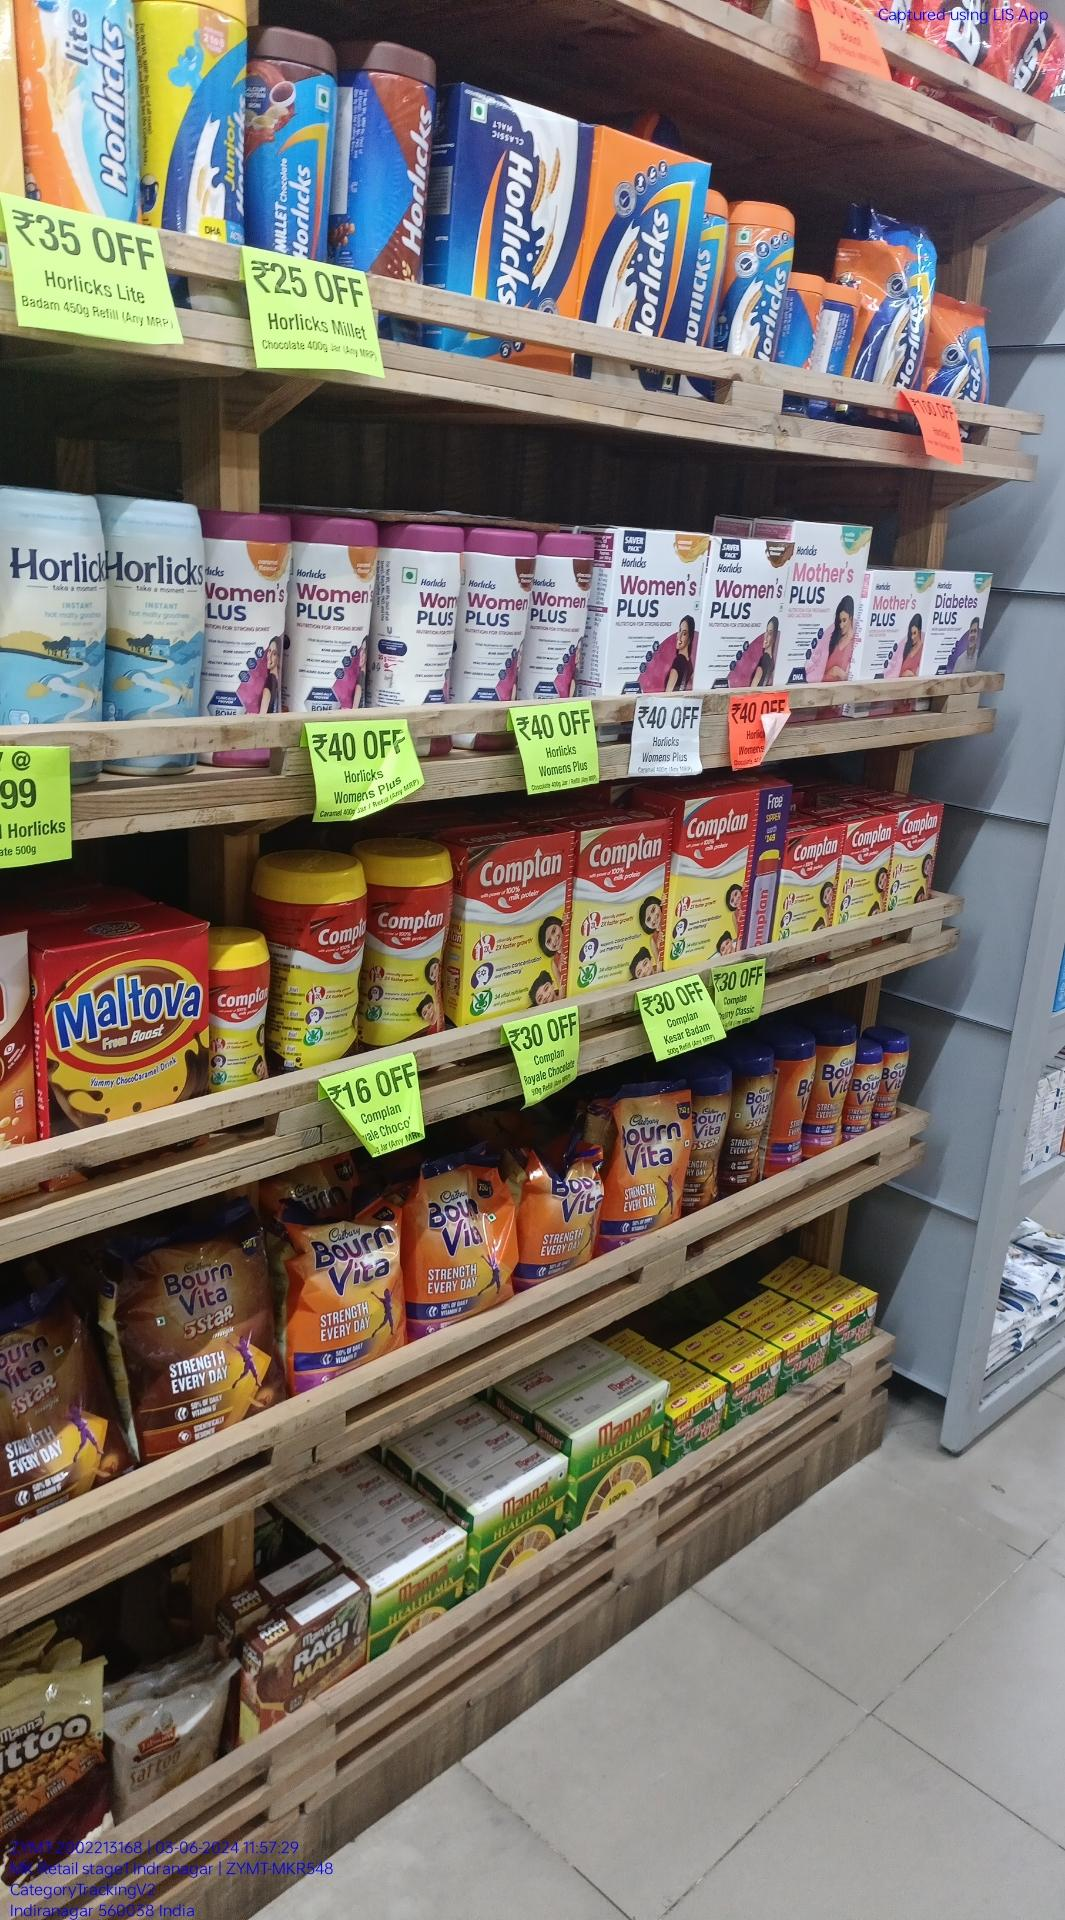COMPLAN_CHOCOLATE_200_GMS_JAR: (212, 921, 270, 1108)
COMPLAN_CHOCOLATE_500_GMS_JAR: (275, 851, 362, 1057), (366, 837, 450, 1037)
HORLICKS_JUNIOR_VANILLA_500_GM_JAR: (140, 0, 248, 239)
HORLICKS_LITE_REGULAR_MALT_500_GM_JAR: (21, 0, 138, 211)
